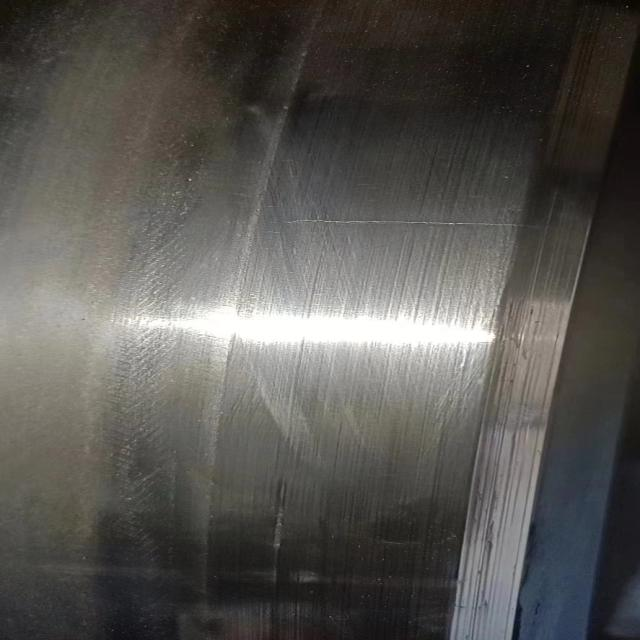Brake_Thermal_Cracks: (282, 212, 579, 247)
